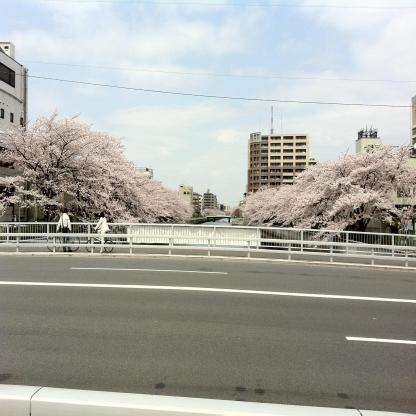Someiyoshino: (2, 116, 198, 223), (242, 144, 415, 229)
